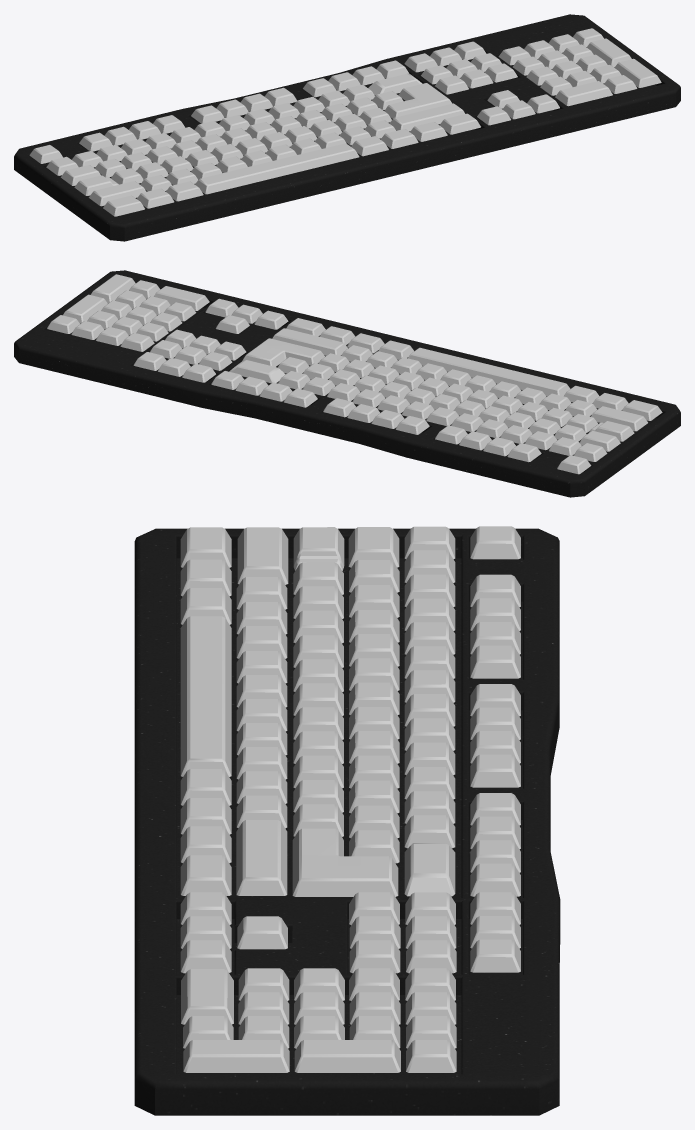
The model's file is keyboard.FBX.
3 views of the same model, one above another, from view 1: azimuth 30°, elevation 25°; view 2: azimuth 150°, elevation 25°; view 3: azimuth 270°, elevation 25° (orthographic). The views are drawn at different scales.
Visible parts, largest first — view 1: Keys, Keyboard_Body; view 2: Keys, Keyboard_Body; view 3: Keys, Keyboard_Body.
Part boxes in pixels (x1,y1,x2,y2): Keys: [29, 28, 661, 216]; Keyboard_Body: [14, 14, 680, 241]; Keys: [47, 274, 662, 474]; Keyboard_Body: [14, 270, 680, 497]; Keys: [180, 526, 520, 1072]; Keyboard_Body: [134, 528, 560, 1115].
Bounding box in the file's own units: 0.8197 × 0.0317 × 0.2647.
